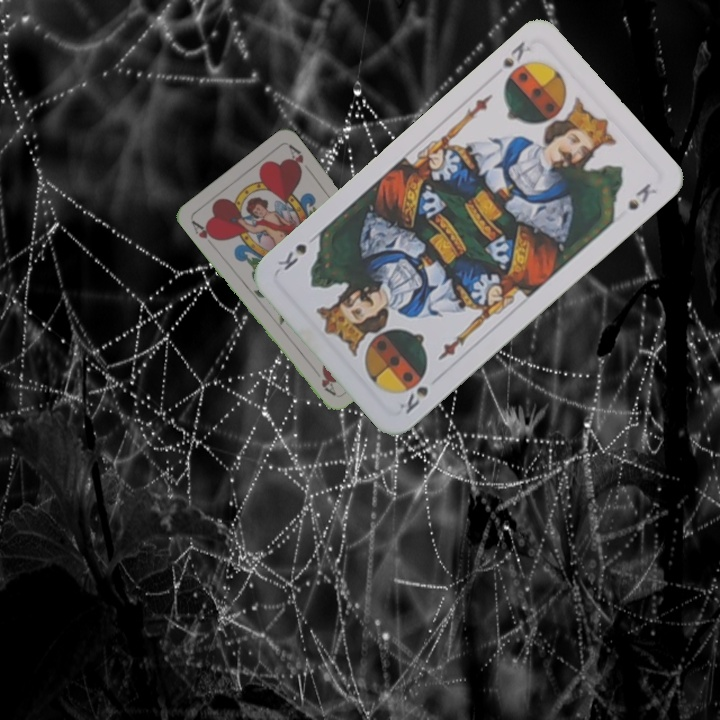HA: (187, 216, 221, 244)
SK: (395, 381, 431, 417), (498, 37, 534, 70)
